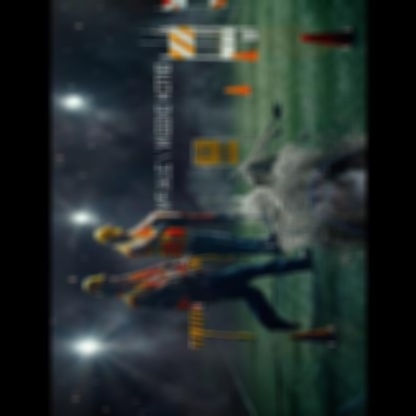vest: (113, 262, 184, 312), (115, 221, 191, 261)
yellow: (79, 268, 107, 297), (89, 222, 121, 243)
